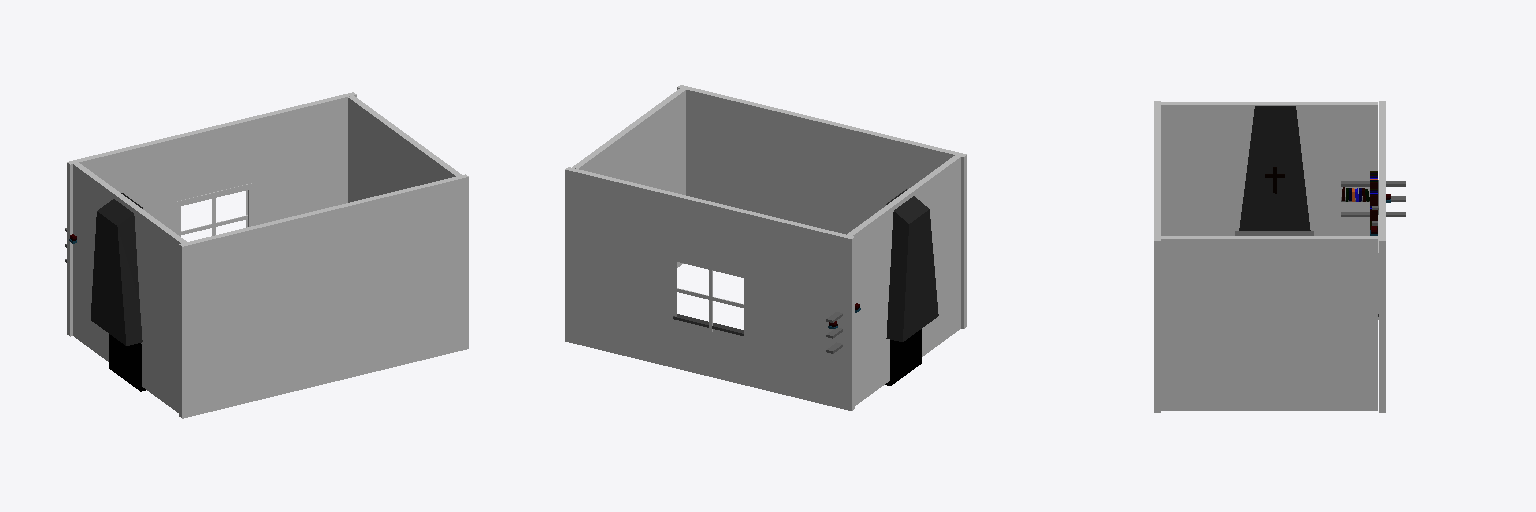
The model's file is casa.obj.
3 renders of one model, left to right at view 1: azimuth 30°, elevation 25°; view 2: azimuth 150°, elevation 25°; view 3: azimuth 270°, elevation 25°, orthographic.
Visible parts, largest first — view 1: Cube.003, Cube.015, Cube_Cube.042; view 2: Cube.003, Cube.015, Cube_Cube.042; view 3: Cube.003, Cube.015, Cube.005, Cube.000_Cube.020.
Part boxes in pixels (x1,y1,x2,y2): Cube.003: (67,92,468,418); Cube.015: (91,193,142,345); Cube_Cube.042: (109,334,145,391); Cube.003: (565,85,966,410); Cube.015: (886,189,938,341); Cube_Cube.042: (885,329,921,385); Cube.003: (1154,101,1385,412); Cube.015: (1239,106,1310,230); Cube.005: (1161,102,1377,235); Cube.000_Cube.020: (1341,180,1405,225).
Bounding box in the file's own units: 10.93 × 6.16 × 7.94.